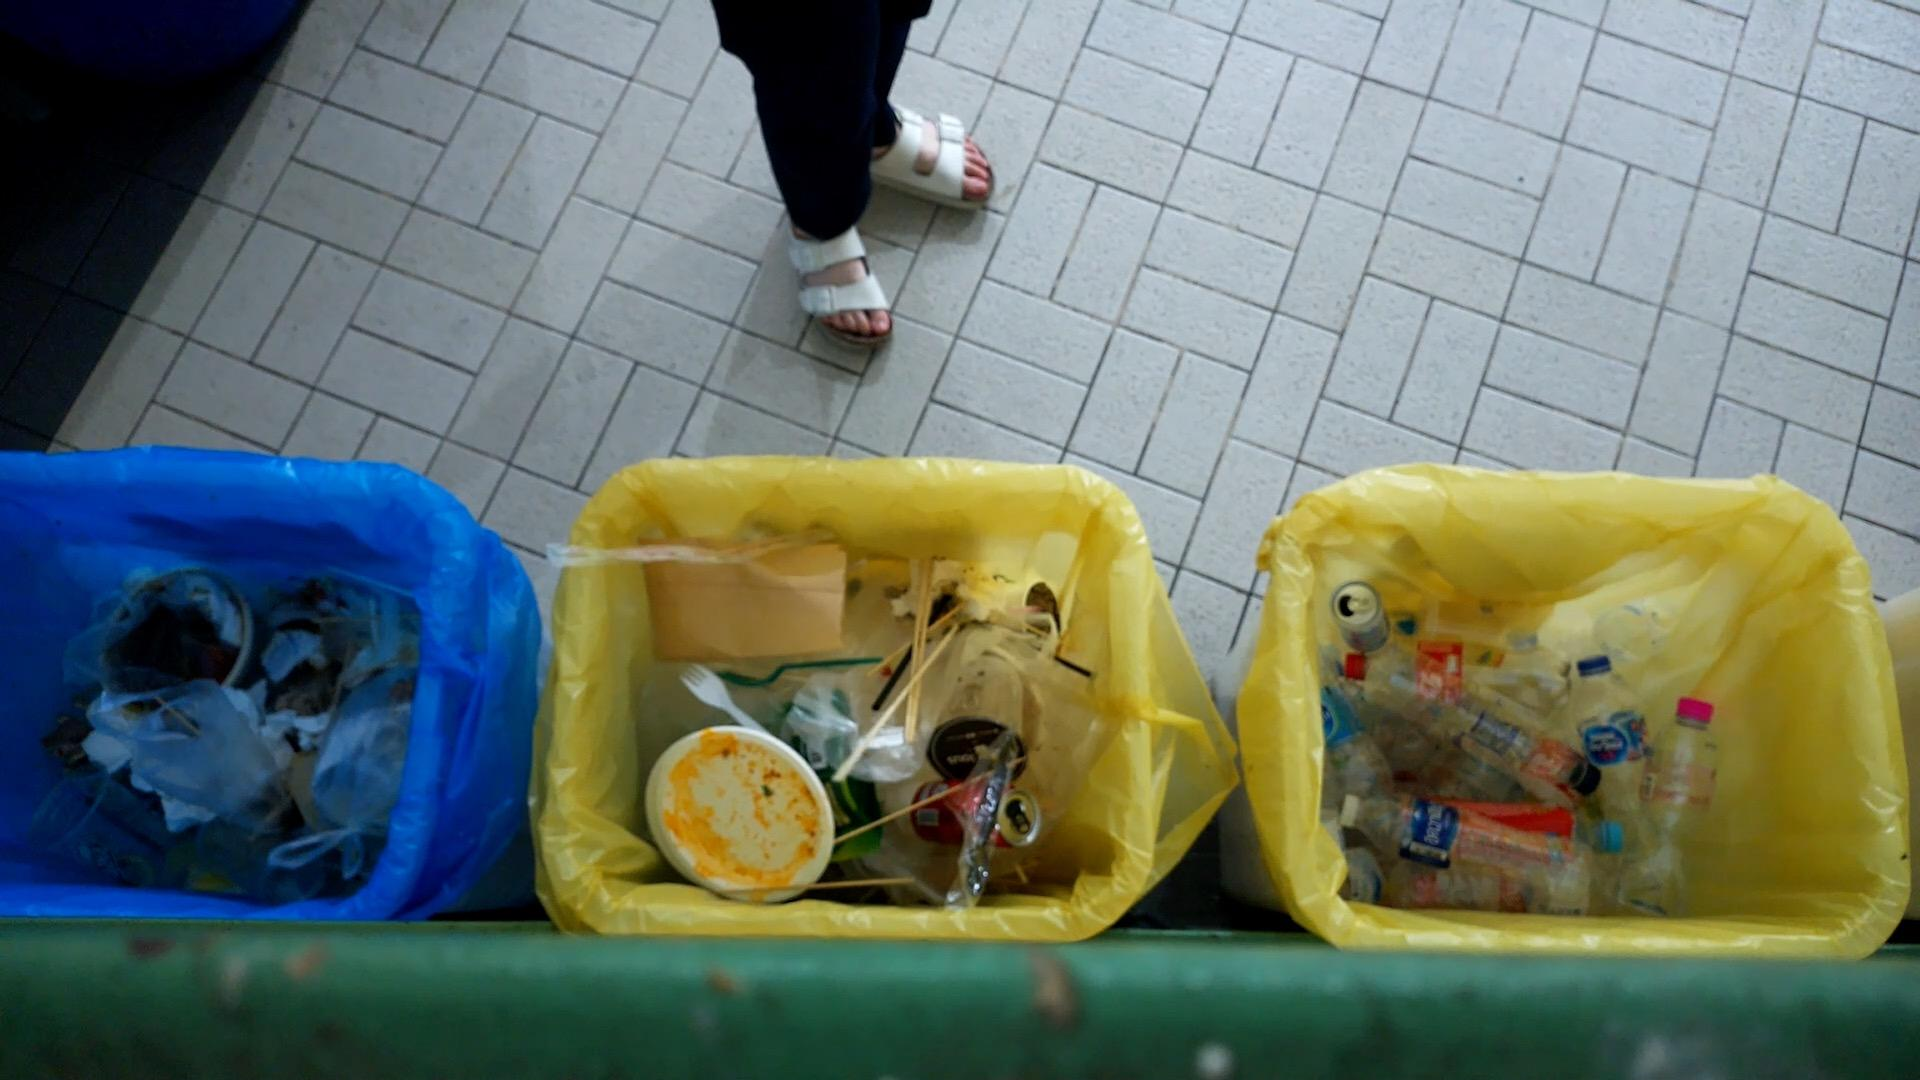can: (911, 782, 1048, 852), (1333, 578, 1393, 657)
dirty food container: (645, 725, 833, 909)
filled plastic bag: (260, 659, 426, 881)
paper bag: (640, 531, 848, 662)
plastic bag: (92, 680, 287, 832)
plastic bottle: (1337, 790, 1605, 915), (1621, 692, 1718, 911), (1573, 647, 1654, 825)
plastic cup: (916, 647, 1031, 782)
plastic cutlery: (951, 731, 1026, 911), (669, 659, 764, 731), (713, 651, 884, 691)
sticks: (825, 620, 956, 783), (827, 778, 986, 852), (716, 864, 923, 898), (902, 550, 936, 744)
straw: (531, 526, 825, 587)
